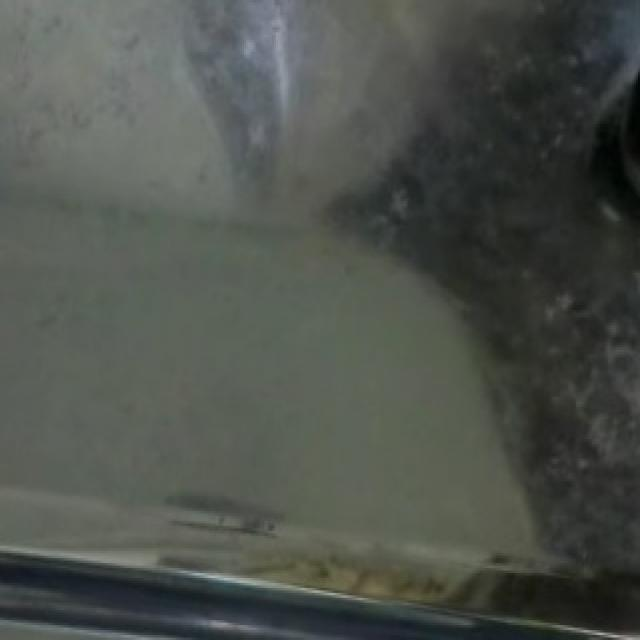Fruit: (606, 38, 640, 208)
